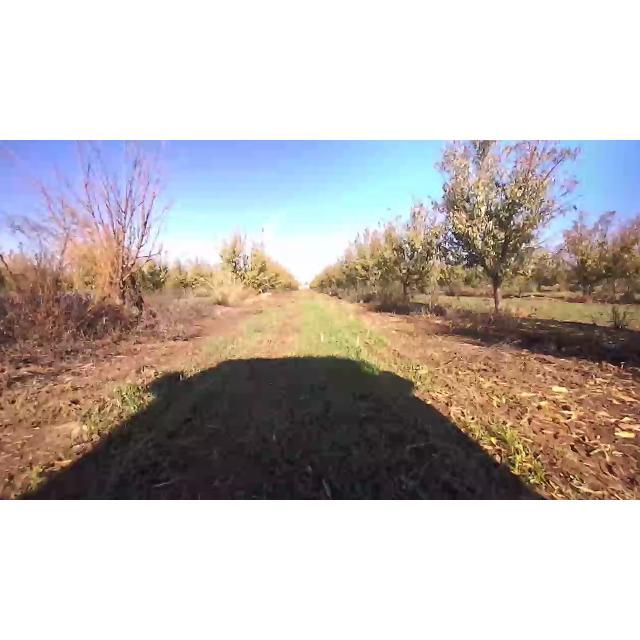direk: (429, 140, 586, 326), (29, 142, 179, 334), (358, 216, 452, 316), (550, 210, 640, 308), (209, 222, 273, 310)
